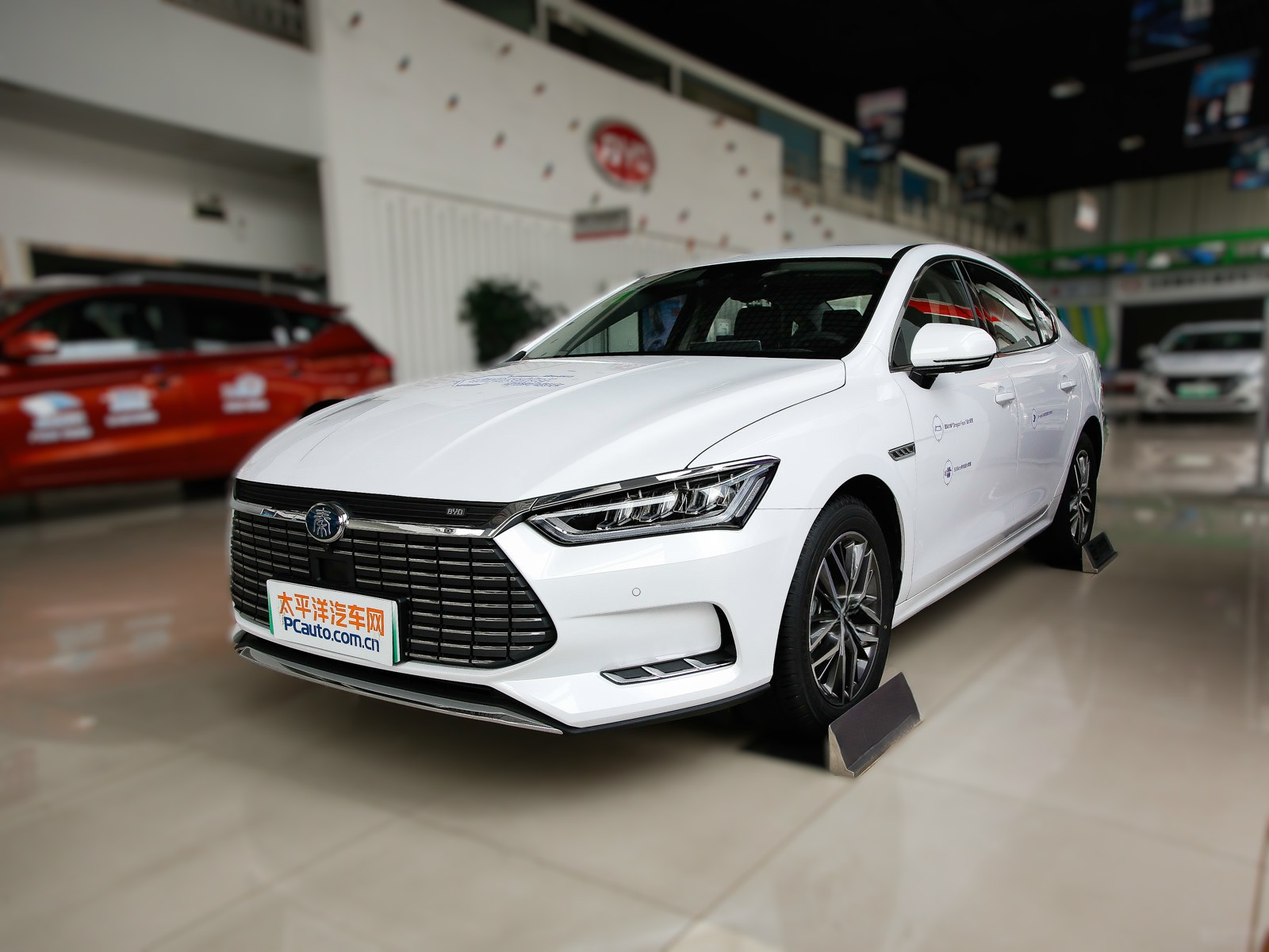BYD Qin: (306, 504, 343, 542)
